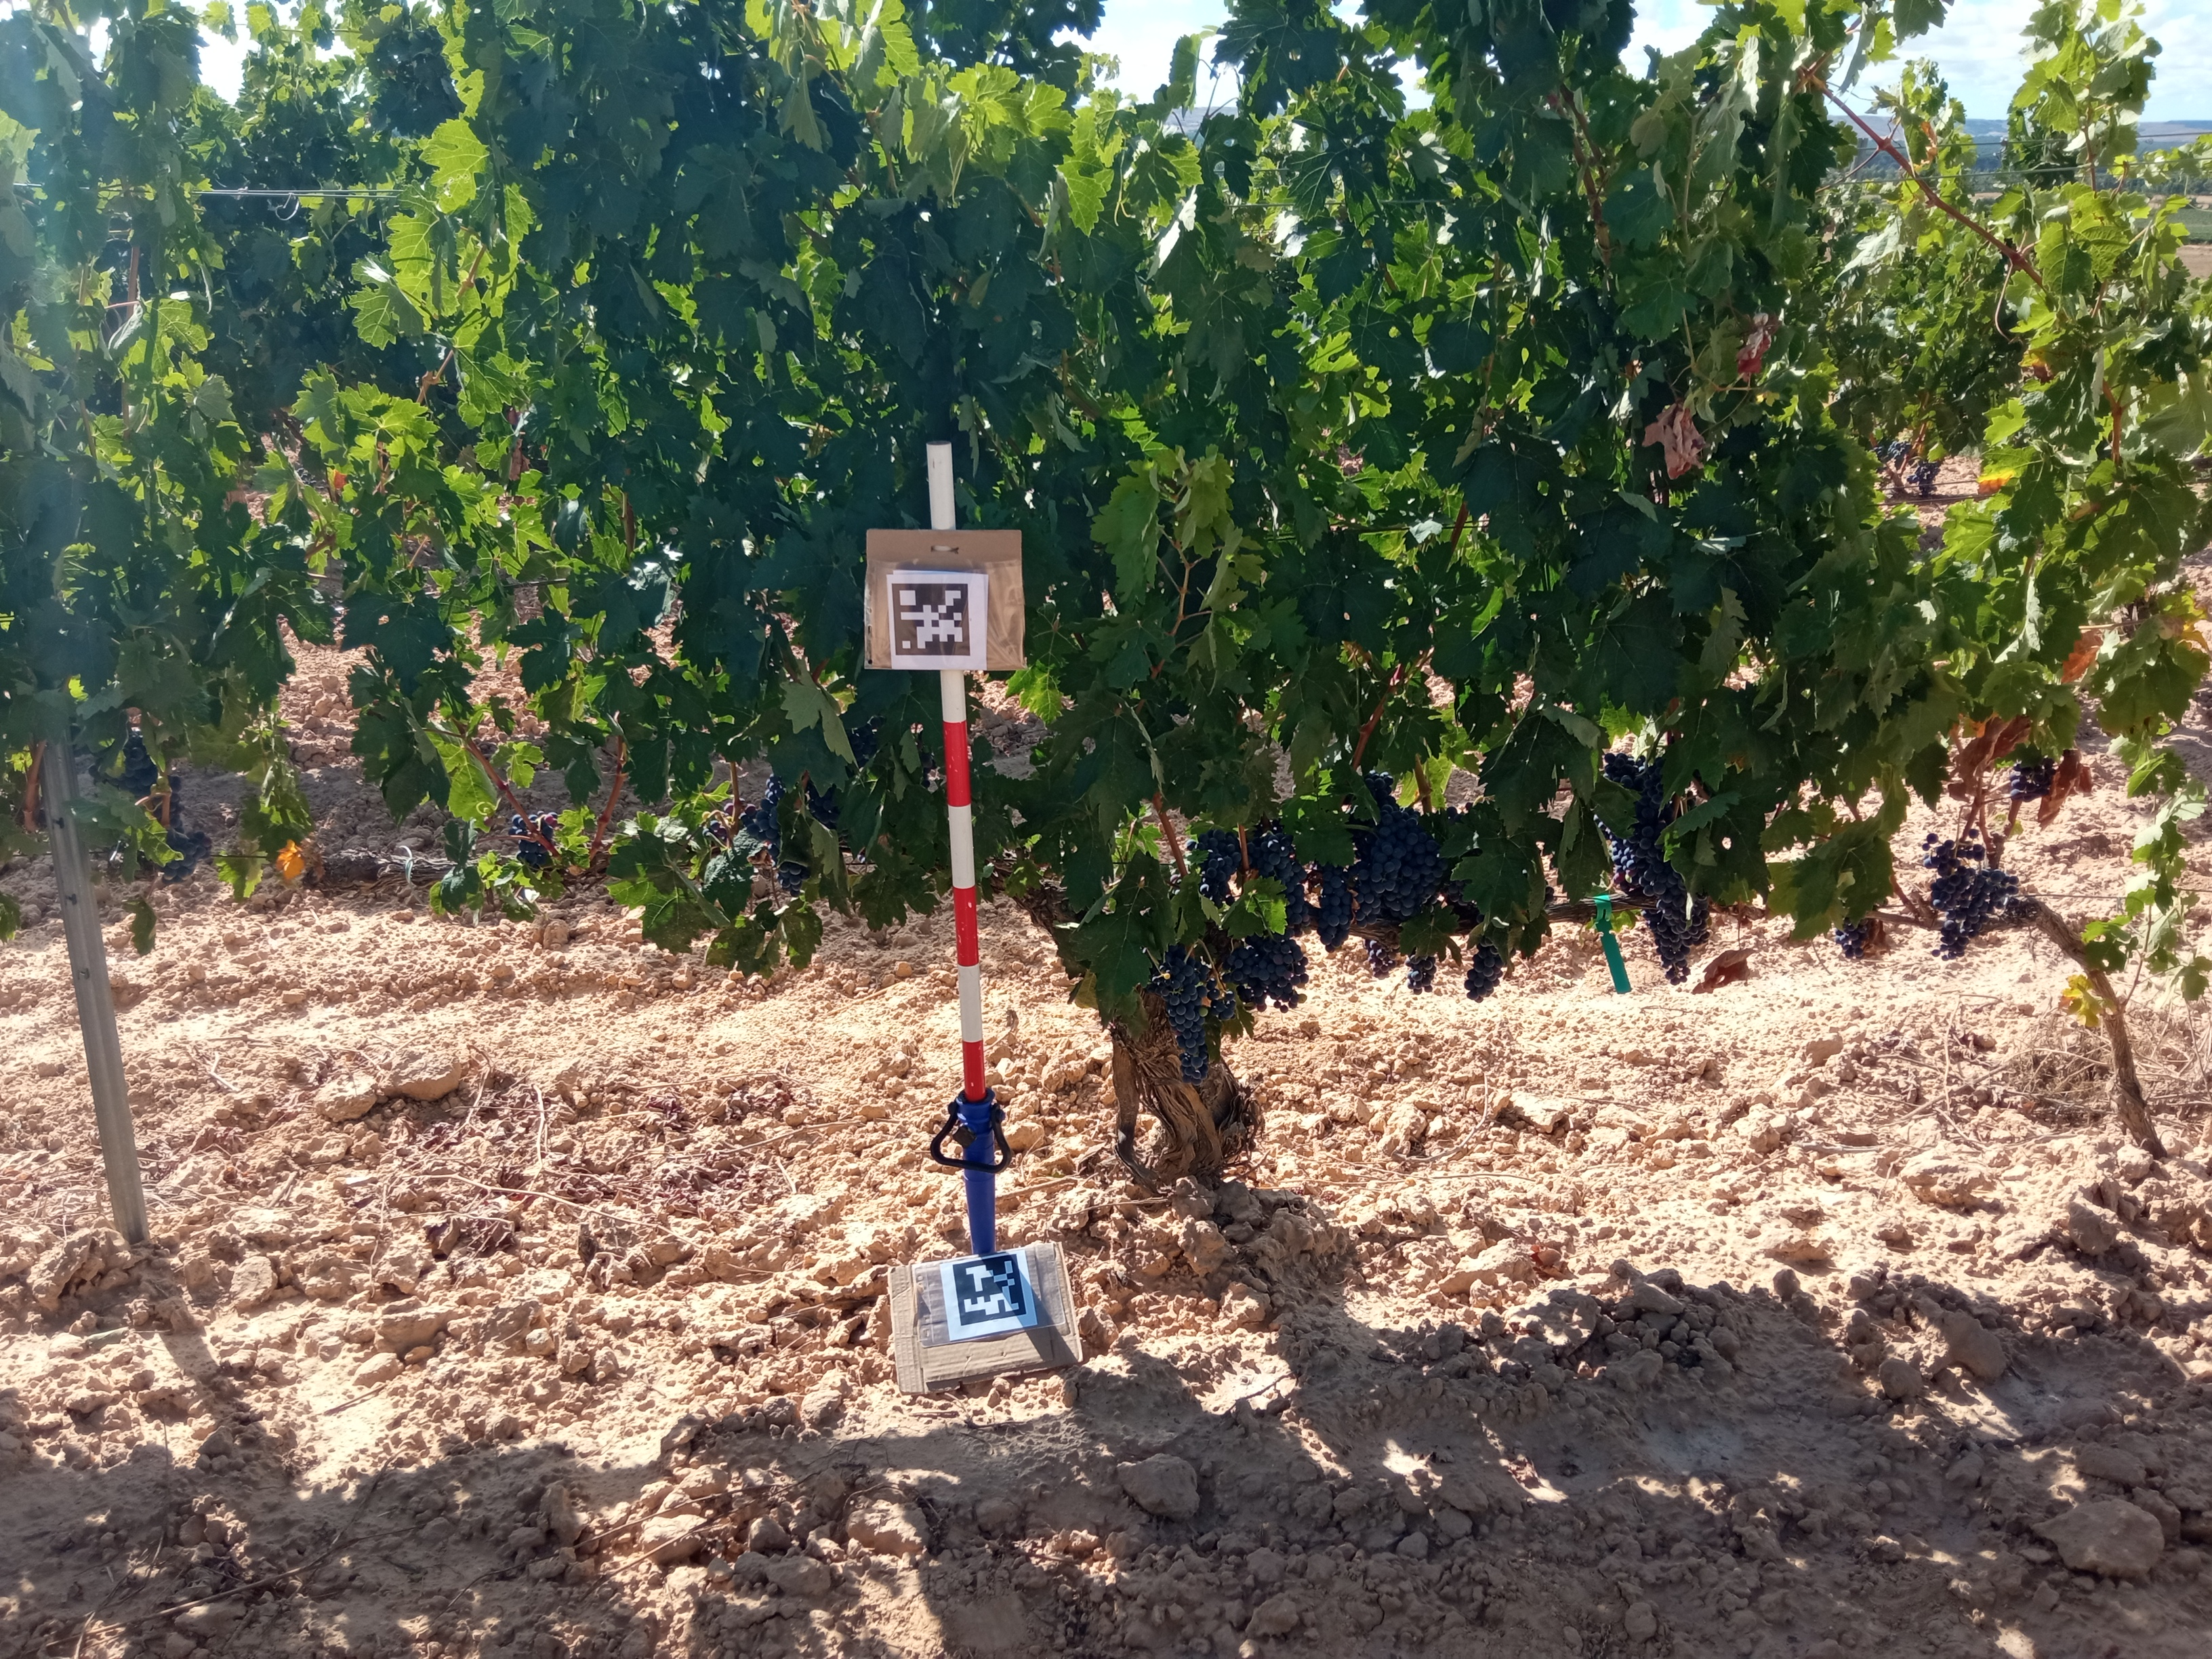grapes: (1608, 836, 1709, 985), (1921, 823, 2022, 967), (1151, 950, 1237, 1086), (1357, 823, 1451, 932), (1601, 749, 1674, 836), (1181, 829, 1261, 906), (158, 781, 214, 887), (1231, 934, 1308, 1011), (1256, 823, 1310, 925), (698, 798, 786, 849), (89, 730, 158, 793), (1315, 863, 1350, 958), (1360, 770, 1425, 821), (1463, 939, 1507, 1006), (2010, 751, 2059, 809), (510, 810, 559, 863), (768, 856, 812, 899), (803, 782, 845, 828), (1360, 936, 1400, 983), (852, 713, 888, 762), (1838, 917, 1872, 965), (1409, 953, 1442, 997), (761, 770, 786, 805)
